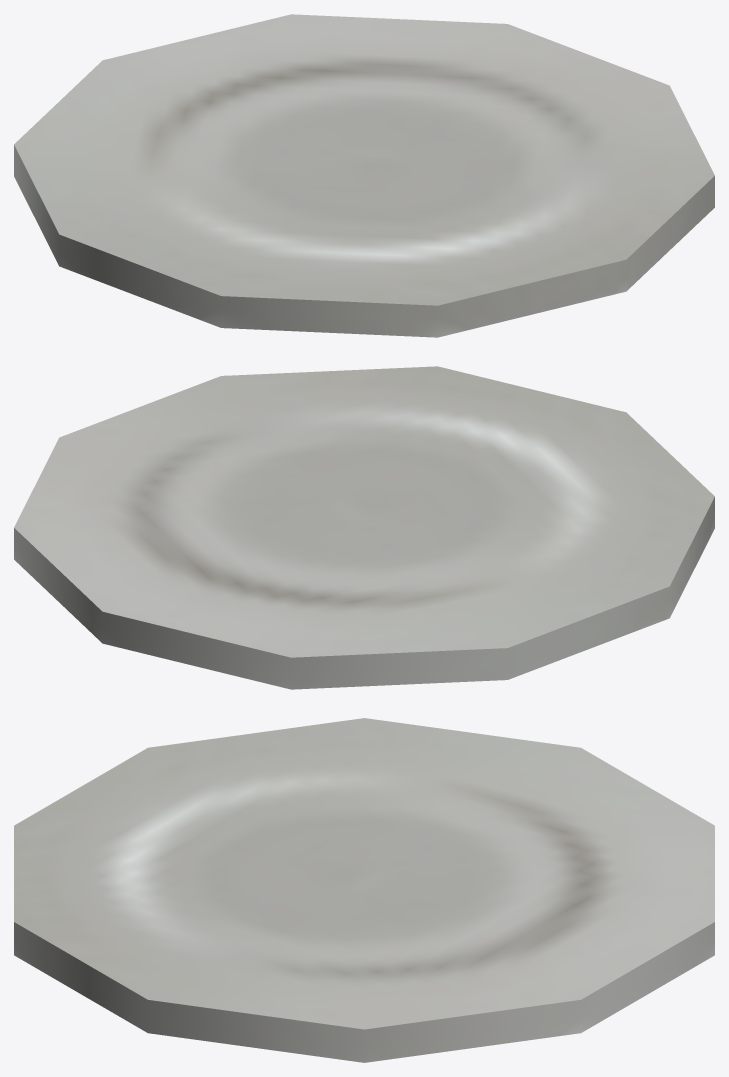
Rendered from Plate_1.fbx.
3 views of the same model, one above another, from view 1: azimuth 30°, elevation 25°; view 2: azimuth 150°, elevation 25°; view 3: azimuth 270°, elevation 25° (orthographic). The views are drawn at different scales.
Parts seen in each view (by area): view 1: pCylinder45; view 2: pCylinder45; view 3: pCylinder45.
Boxes of the visible parts, x1,y1,x2,y2 form: pCylinder45: [14, 14, 714, 337]; pCylinder45: [14, 366, 714, 689]; pCylinder45: [14, 718, 714, 1062].
Bounding box in the file's own units: 0.4 × 0.02 × 0.3804.
